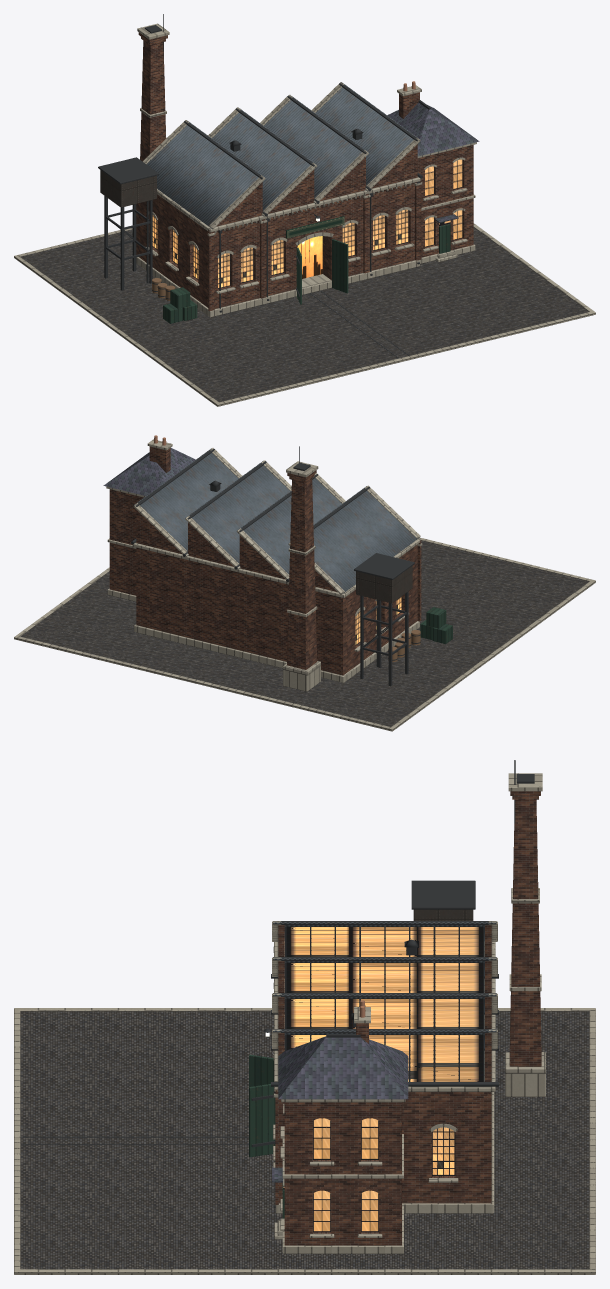
The model's file is factory-b.glb.
3 renders of one model, top to bottom at view 1: azimuth 30°, elevation 25°; view 2: azimuth 150°, elevation 25°; view 3: azimuth 270°, elevation 25°, orthographic. The views are drawn at different scales.
Visible parts, largest first — view 1: forecourt, walls, roof-0, roof-2, roof-1, roof-3, office, chimney, office-roof, plinth, kerb-0, cornice (+15 smaller); view 2: forecourt, walls, roof-0, chimney, roof-2, roof-3, roof-1, office, office-roof, plinth, kerb-1, tank (+14 smaller); view 3: forecourt, office, walls, office-roof, chimney, north-light-1, north-light-0, north-light-2, north-light-3, kerb-3, tank-lid, kerb-1 (+22 smaller).
Boxes of the visible parts, x1=… form: forecourt: x1=21, y1=227, x2=588, y2=402; walls: x1=136, y1=182, x2=414, y2=308; roof-0: x1=146, y1=120, x2=264, y2=229; roof-2: x1=264, y1=95, x2=368, y2=203; roof-1: x1=212, y1=107, x2=317, y2=216; roof-3: x1=315, y1=82, x2=419, y2=191; office: x1=417, y1=145, x2=473, y2=257; chimney: x1=140, y1=40, x2=166, y2=161; office-roof: x1=387, y1=102, x2=479, y2=156; plinth: x1=136, y1=257, x2=419, y2=317; kerb-0: x1=215, y1=311, x2=595, y2=406; cornice: x1=157, y1=177, x2=421, y2=232; forecourt: x1=21, y1=540, x2=589, y2=726; walls: x1=136, y1=545, x2=417, y2=675; roof-0: x1=289, y1=486, x2=419, y2=594; chimney: x1=287, y1=478, x2=317, y2=669; roof-2: x1=185, y1=461, x2=290, y2=568; roof-3: x1=134, y1=448, x2=238, y2=556; roof-1: x1=237, y1=478, x2=341, y2=574; office: x1=109, y1=489, x2=143, y2=595; office-roof: x1=103, y1=448, x2=195, y2=495; plinth: x1=134, y1=621, x2=419, y2=682; kerb-1: x1=14, y1=635, x2=393, y2=731; tank: x1=356, y1=565, x2=412, y2=603; forecourt: x1=20, y1=1011, x2=589, y2=1269; office: x1=284, y1=1102, x2=401, y2=1245; walls: x1=279, y1=1092, x2=491, y2=1203; office-roof: x1=278, y1=1036, x2=408, y2=1099; chimney: x1=509, y1=799, x2=541, y2=1066; north-light-1: x1=286, y1=962, x2=483, y2=992; north-light-0: x1=286, y1=926, x2=483, y2=956; north-light-2: x1=286, y1=998, x2=483, y2=1028; north-light-3: x1=286, y1=1034, x2=483, y2=1081; kerb-3: x1=18, y1=1269, x2=591, y2=1274; tank-lid: x1=411, y1=880, x2=475, y2=909; kerb-1: x1=589, y1=1008, x2=595, y2=1274.
Size of the model in its own units: 5.86 by 3.48 by 5.46.
Materials: 19 (14 with a texture image).
